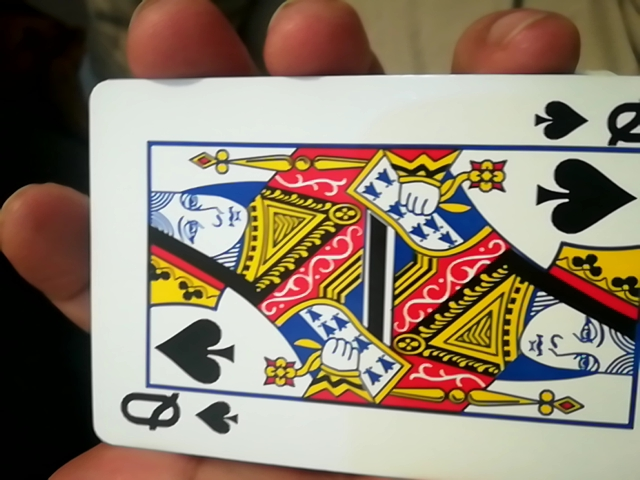ht q: (74, 74, 636, 480)
